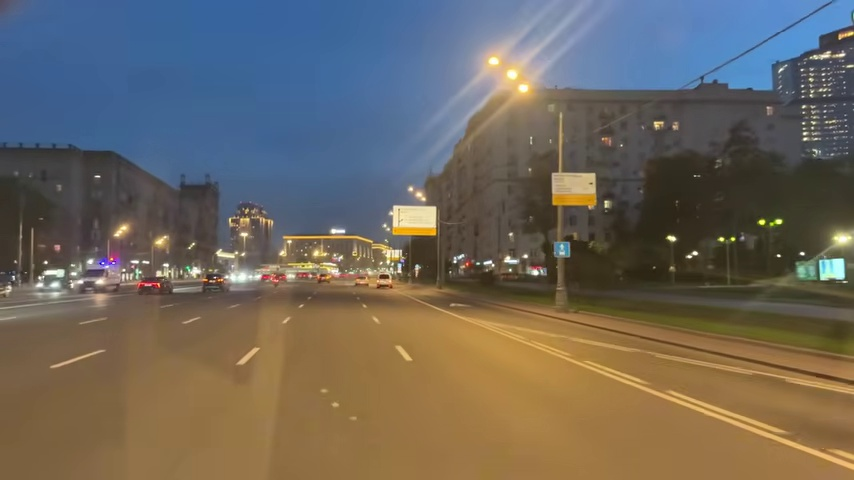acesa: (502, 68, 533, 98), (832, 230, 853, 249), (484, 52, 503, 70), (112, 222, 130, 239), (152, 234, 169, 250)
